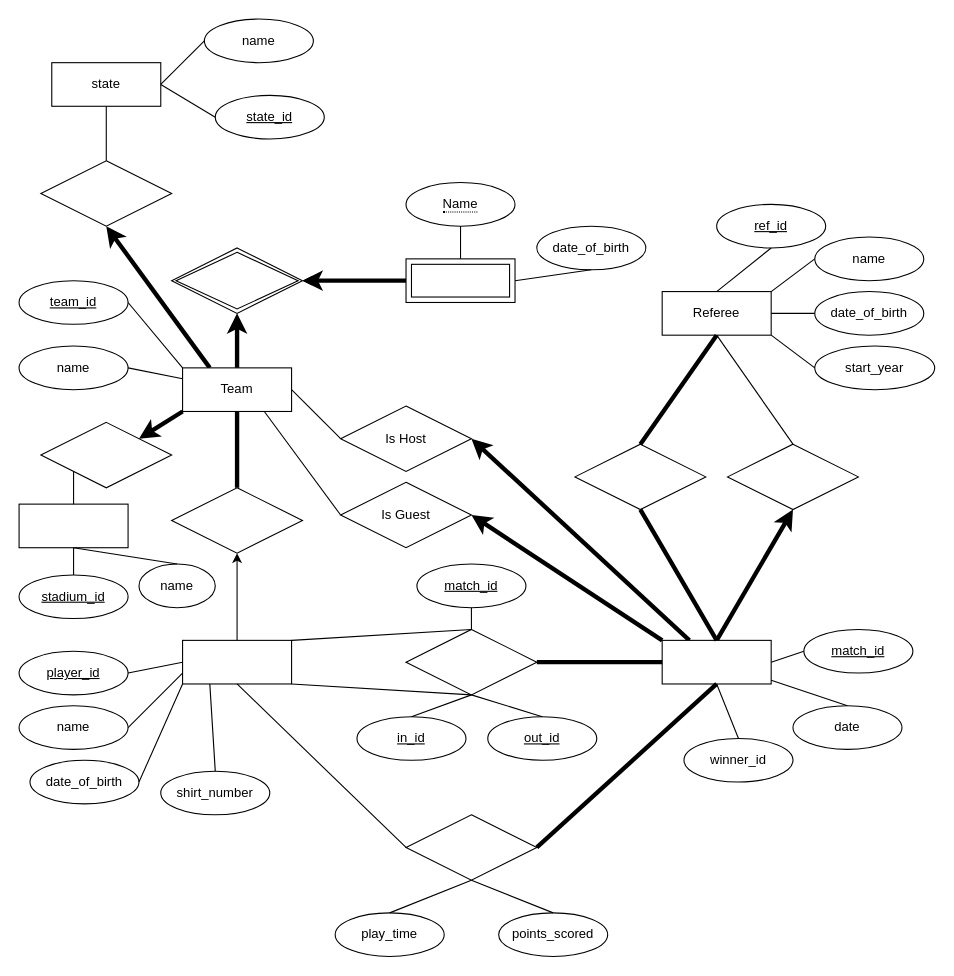
The diagram is 954 pixels wide and 976 high, and some of its shapes have lost their labels. Here are the shapes that lost their labels. From the top down, the box of each, then its label:
(40, 160, 172, 226): Belongs to
(171, 247, 302, 313): Manages
(405, 258, 515, 302): Manager
(40, 421, 172, 488): Main Stadium
(574, 443, 706, 510): Is Assistant Ref
(726, 443, 858, 510): Is Main Ref
(18, 503, 128, 548): stadium
(171, 487, 302, 553): Belongs
(181, 639, 292, 684): Player
(405, 628, 537, 695): Substitutes for
(661, 639, 771, 684): Match
(405, 814, 537, 880): Participates In
